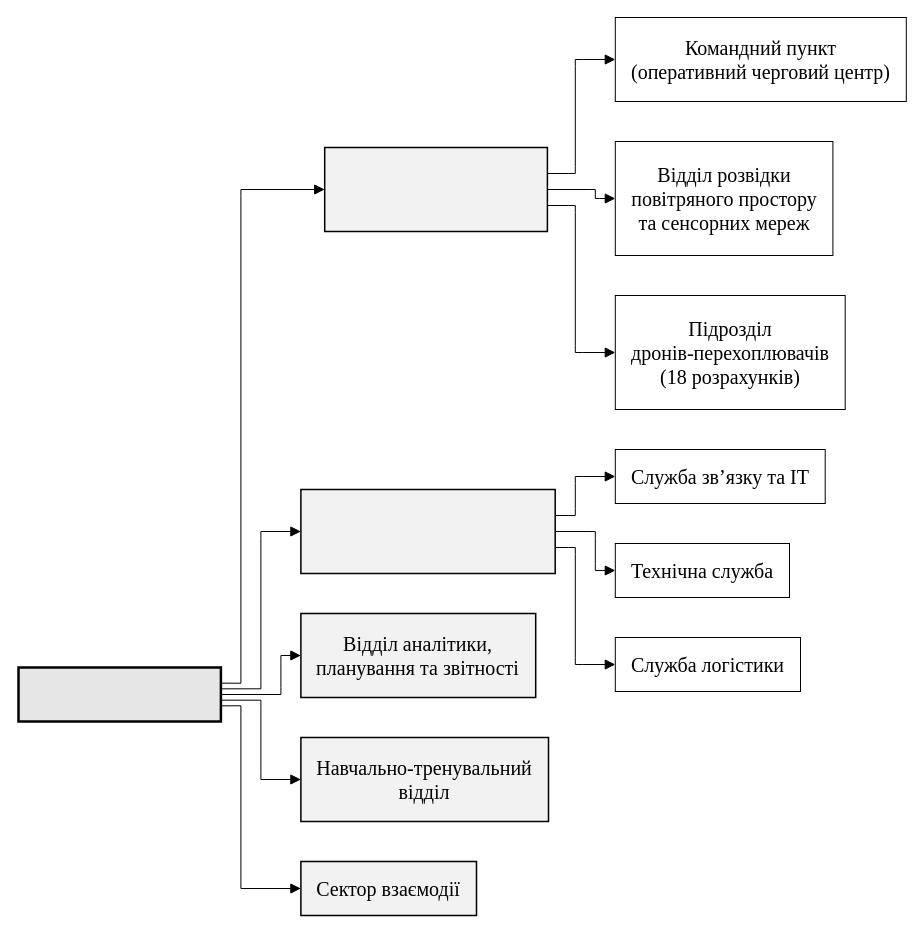
Image size: 924x934. Some labels were removed from this diagram. Here are the shapes that lost their labels. From the top down, the centre of each, then its label:
At (x=436, y=189): "Заступник начальника з бойового управління".
At (x=428, y=531): "Заступник начальника з технічного забезпечення".
At (x=119, y=694): "Начальник центру".
